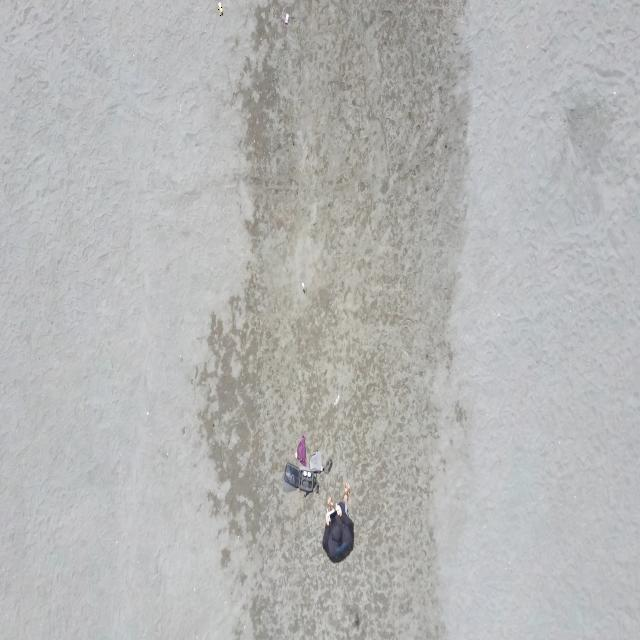Garbage: (216, 2, 223, 15), (283, 12, 288, 24), (300, 281, 304, 292)
